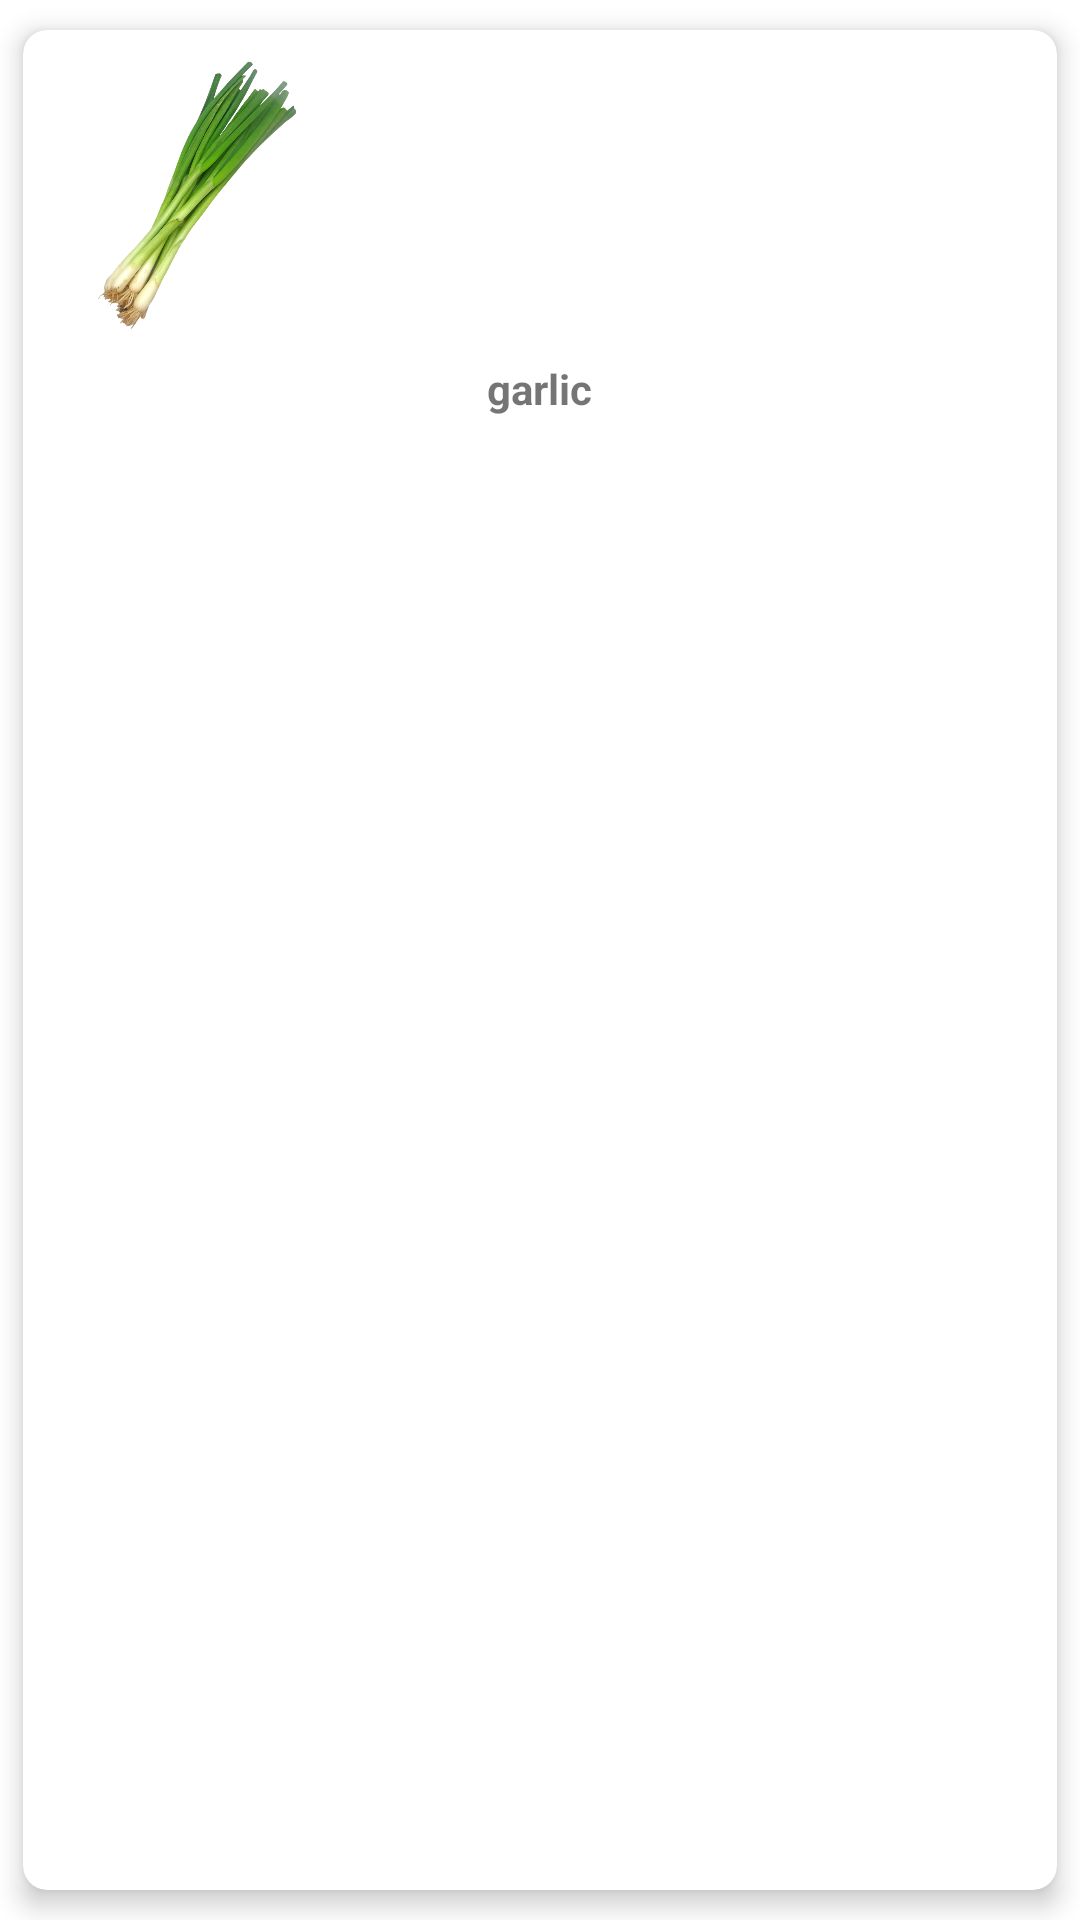

Icon bounding boxes for this 1080 x 1920 phone screenshot, format (x1, y1, x2, y2):
springonion: (98, 62, 296, 329)
